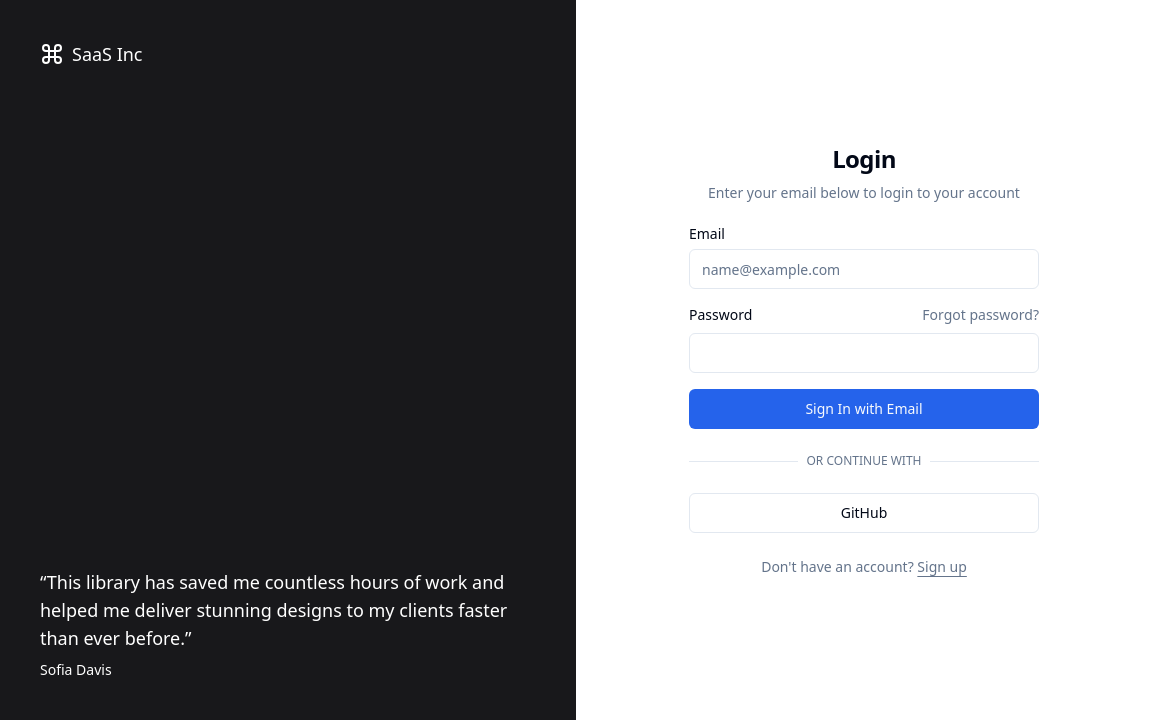
Test case: Login Page › displays error message on login failure
The width and height of the screenshot is (1152, 720).
Type "test@example.com" into the field labelled "Email" at (864, 269), box [689,249,1039,289]
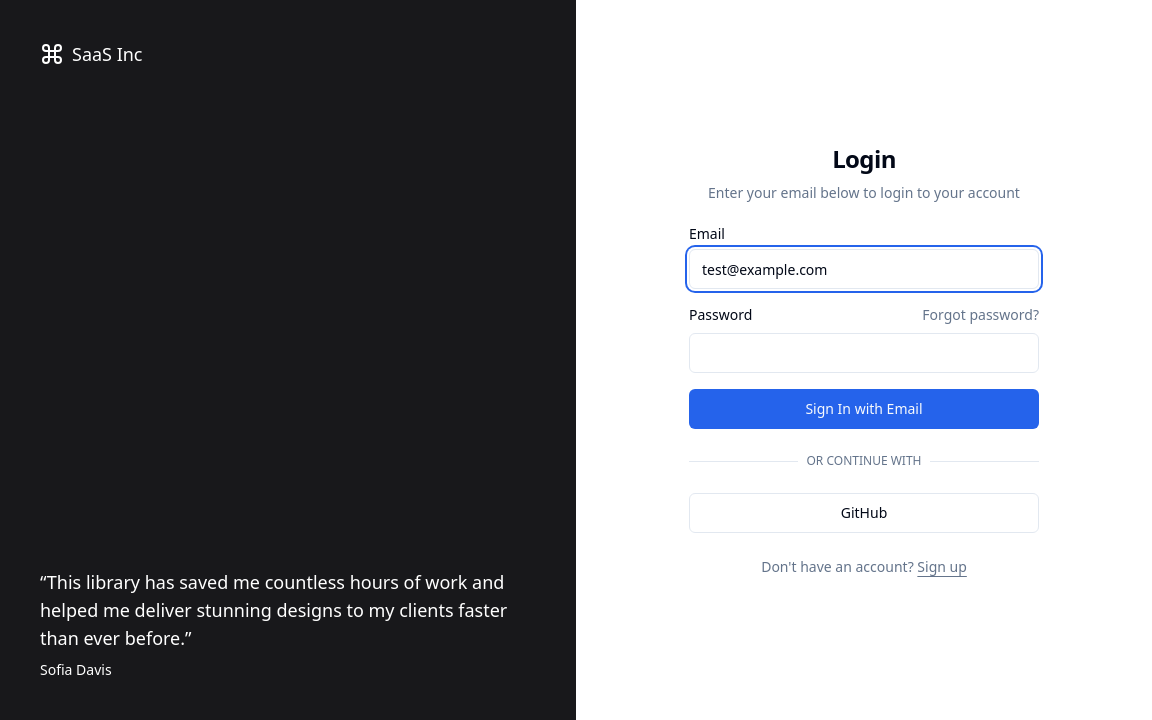
Type "wrongpassword" into the password field labelled "Password" at (864, 353), box [689,333,1039,373]
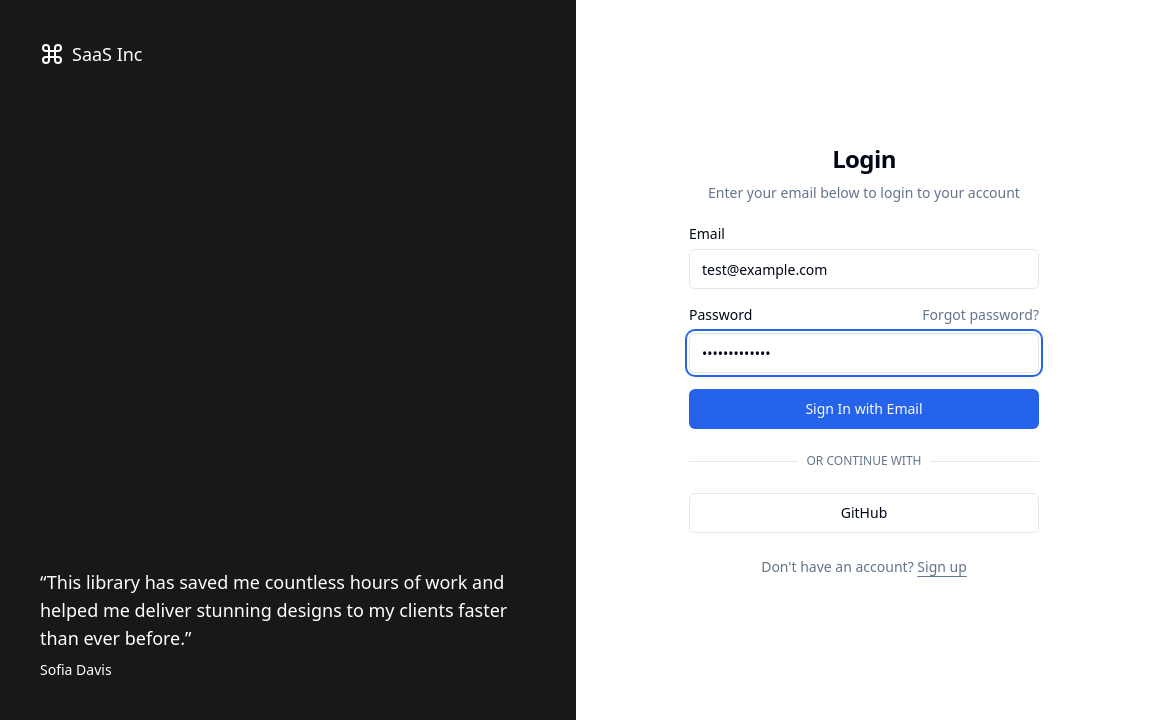
Click the button "Sign In with Email" at (864, 409), box [689,389,1039,429]
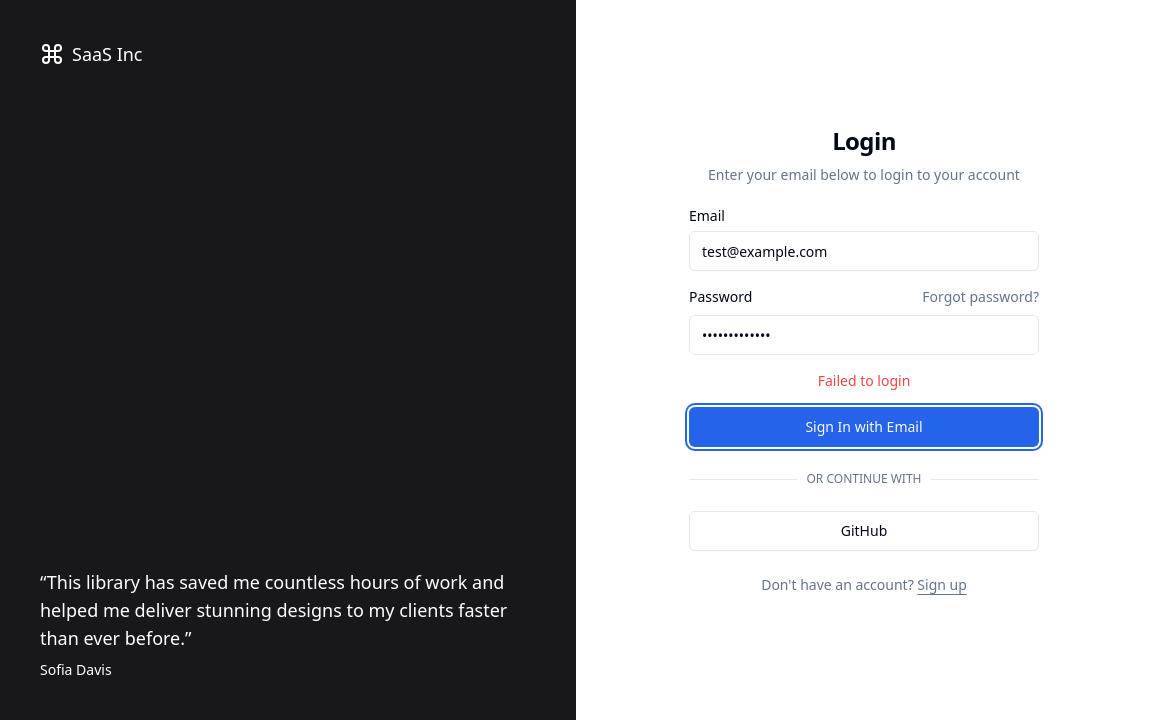
Result: the text "Failed to login" is shown at [818,371,910,390]
